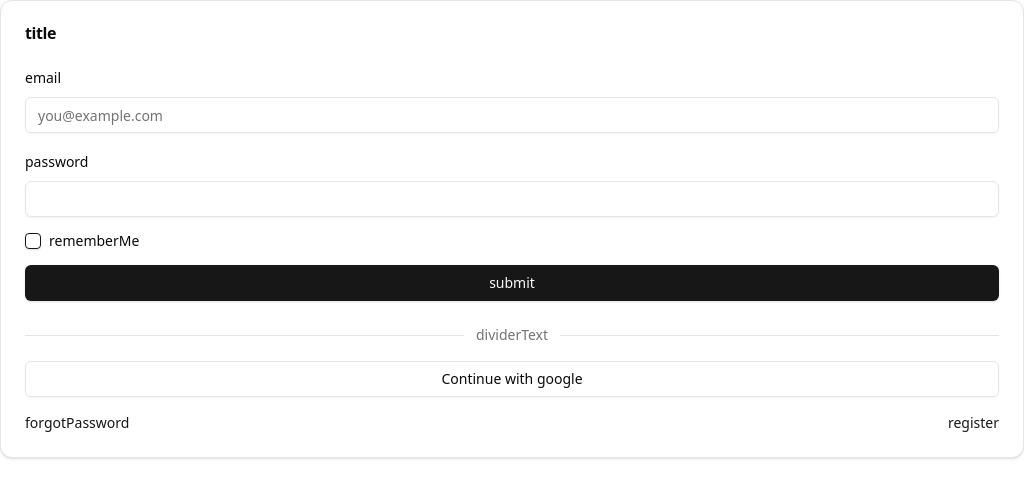
Test case: LoginForm › shows validation error for invalid email
This screenshot has width=1024, height=503.
Type "not-valid" into the field labelled "email". click: (512, 115)
box: [25,97,999,133]
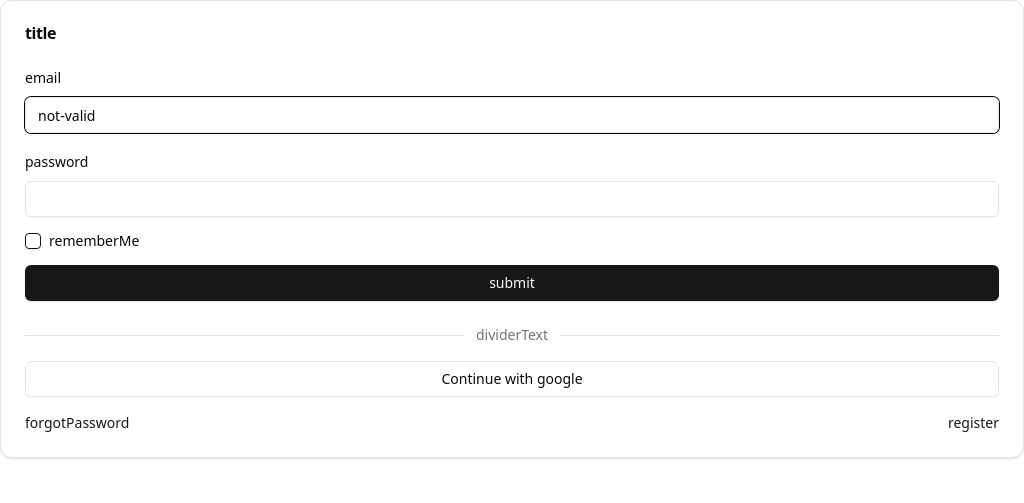
Type "somepassword" into the password field labelled "password". click: (512, 199)
box: [25,181,999,217]
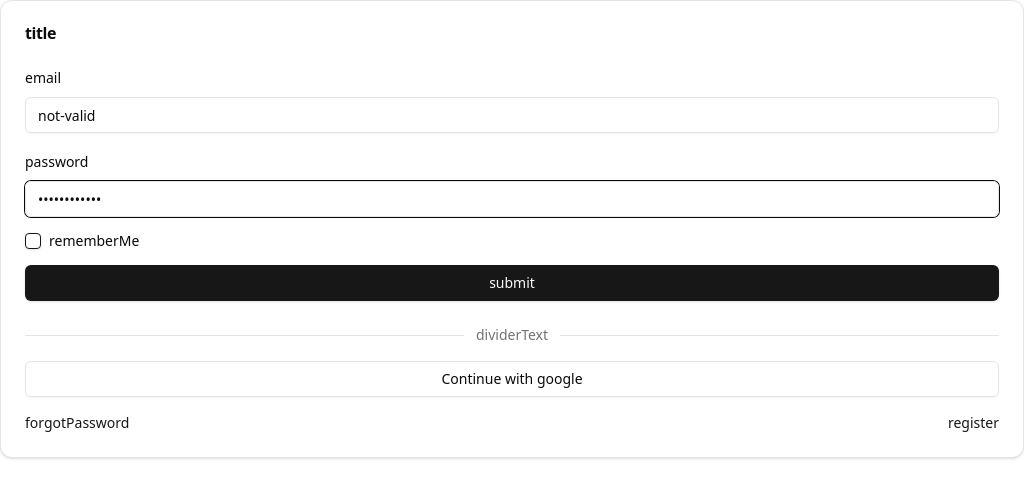
Click the button "submit". click: (512, 283)
box: [25,265,999,301]
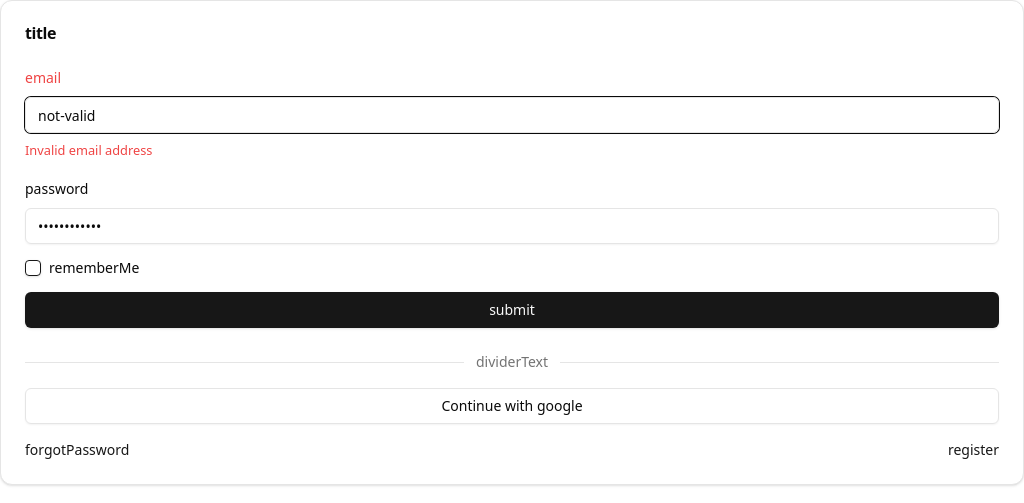
Expected: the text "Invalid email address" is shown, [25,141,152,159]
